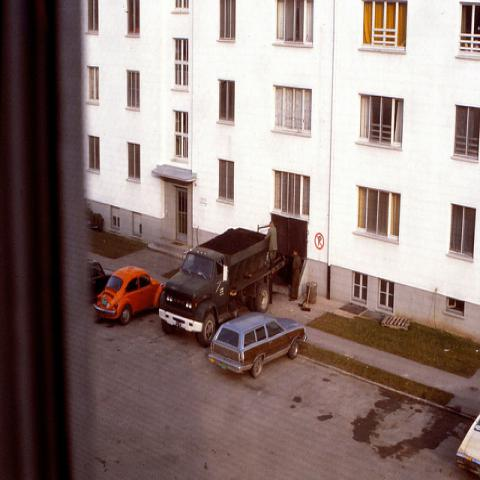car: (207, 311, 308, 378), (90, 266, 166, 324), (455, 408, 479, 478), (87, 257, 107, 291)
truck: (158, 228, 290, 347)
